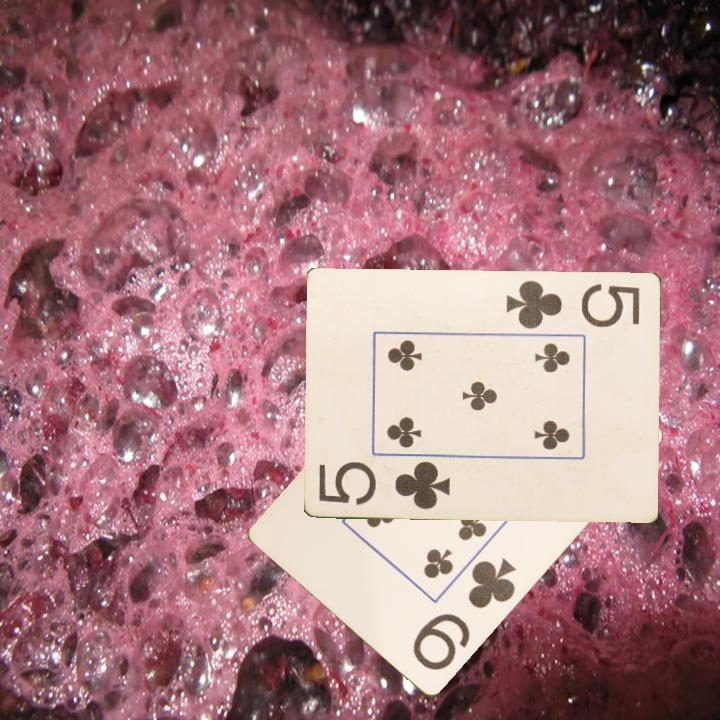5c: (502, 276, 643, 331), (315, 457, 454, 512)
9c: (408, 555, 519, 675)
